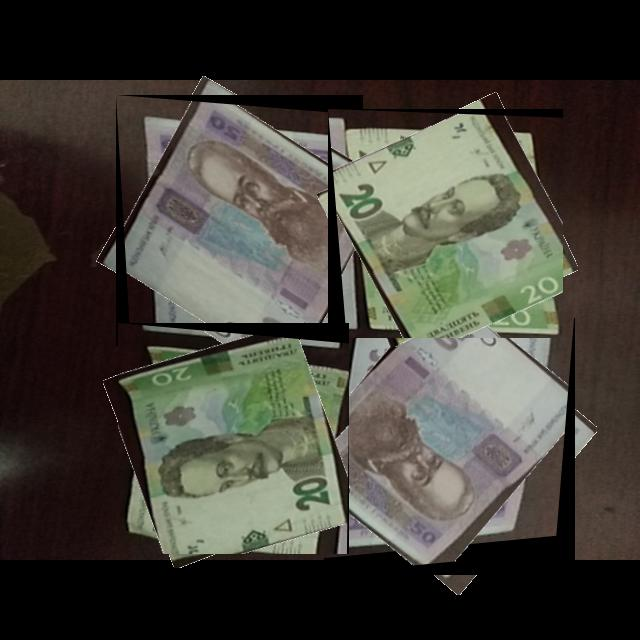20uah: (328, 109, 564, 339), (118, 323, 350, 555)
50uah: (324, 318, 576, 576), (116, 95, 364, 347)
